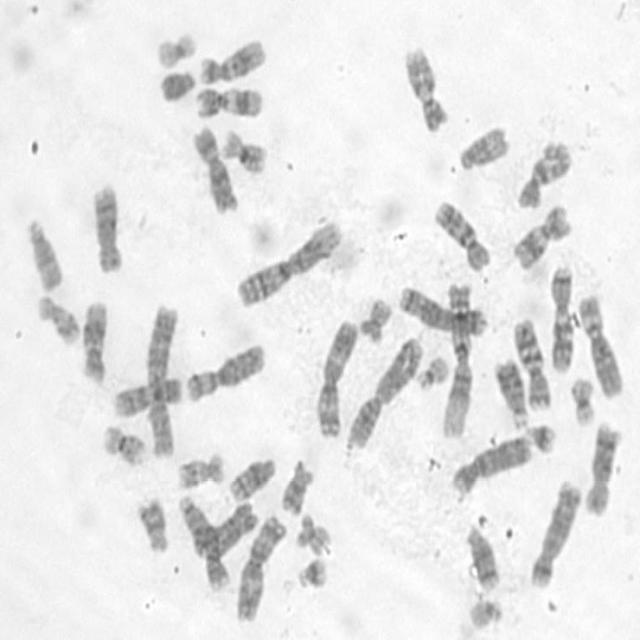A1: (233, 214, 346, 310), (437, 275, 475, 441)
A2: (344, 330, 427, 452), (141, 296, 182, 461)
A3: (232, 508, 289, 624), (313, 313, 361, 440)
B4: (447, 430, 535, 496), (197, 497, 259, 582)
B5: (526, 473, 584, 591), (394, 280, 489, 338)
C10: (430, 192, 494, 273), (512, 136, 574, 210)
C11: (509, 198, 574, 271), (191, 80, 265, 121)
C12: (194, 31, 267, 86), (77, 295, 109, 384)
C6: (574, 287, 626, 398), (182, 337, 268, 404)
C7: (508, 311, 554, 412), (545, 258, 577, 375)
C8: (582, 417, 624, 517), (87, 178, 124, 275)
C9: (400, 38, 450, 133), (109, 370, 186, 420)
D13: (490, 354, 530, 429), (176, 497, 220, 558)
D14: (459, 518, 502, 593), (225, 451, 278, 502)
D15: (21, 212, 66, 293), (454, 119, 511, 172)
E16: (217, 123, 269, 176), (99, 419, 149, 468)
E17: (33, 287, 82, 347), (173, 447, 227, 490)
E18: (276, 456, 316, 516), (132, 492, 170, 555)
F19: (151, 26, 199, 70), (566, 372, 598, 428)
F20: (356, 292, 394, 344), (294, 510, 332, 556)
G21: (520, 416, 558, 456), (292, 552, 330, 590)
G22: (412, 349, 449, 392), (465, 592, 505, 631)
X: (188, 120, 241, 215)
Y: (156, 64, 196, 103)
